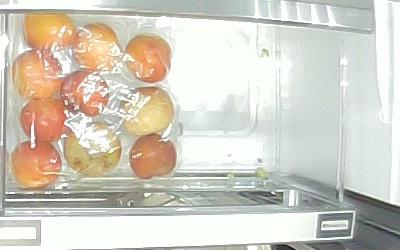prune_vinyl: (63, 121, 123, 175), (118, 86, 176, 136), (11, 49, 63, 100), (71, 21, 122, 70), (11, 141, 63, 189), (21, 11, 81, 52), (62, 69, 111, 118), (124, 34, 172, 83), (129, 132, 178, 179), (20, 97, 72, 141)
